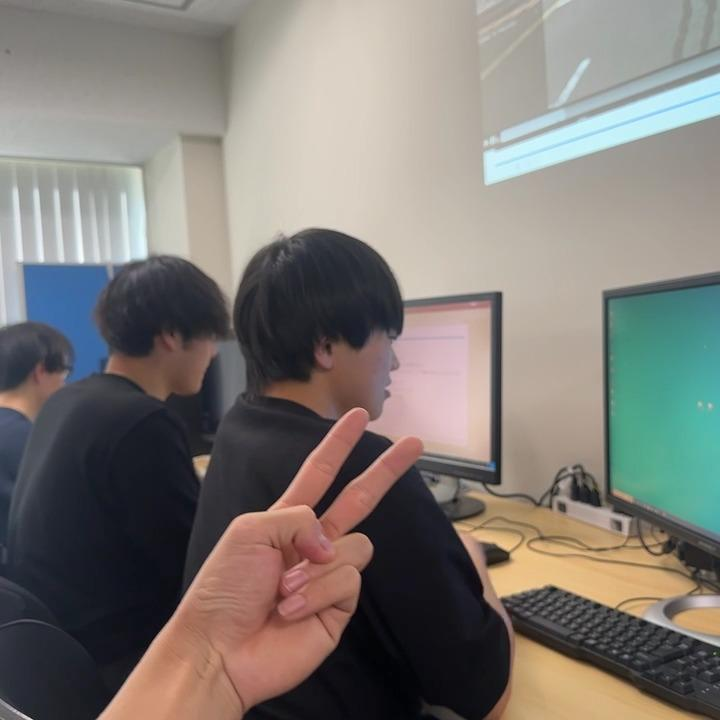without_gloves: (0, 162, 564, 720)
